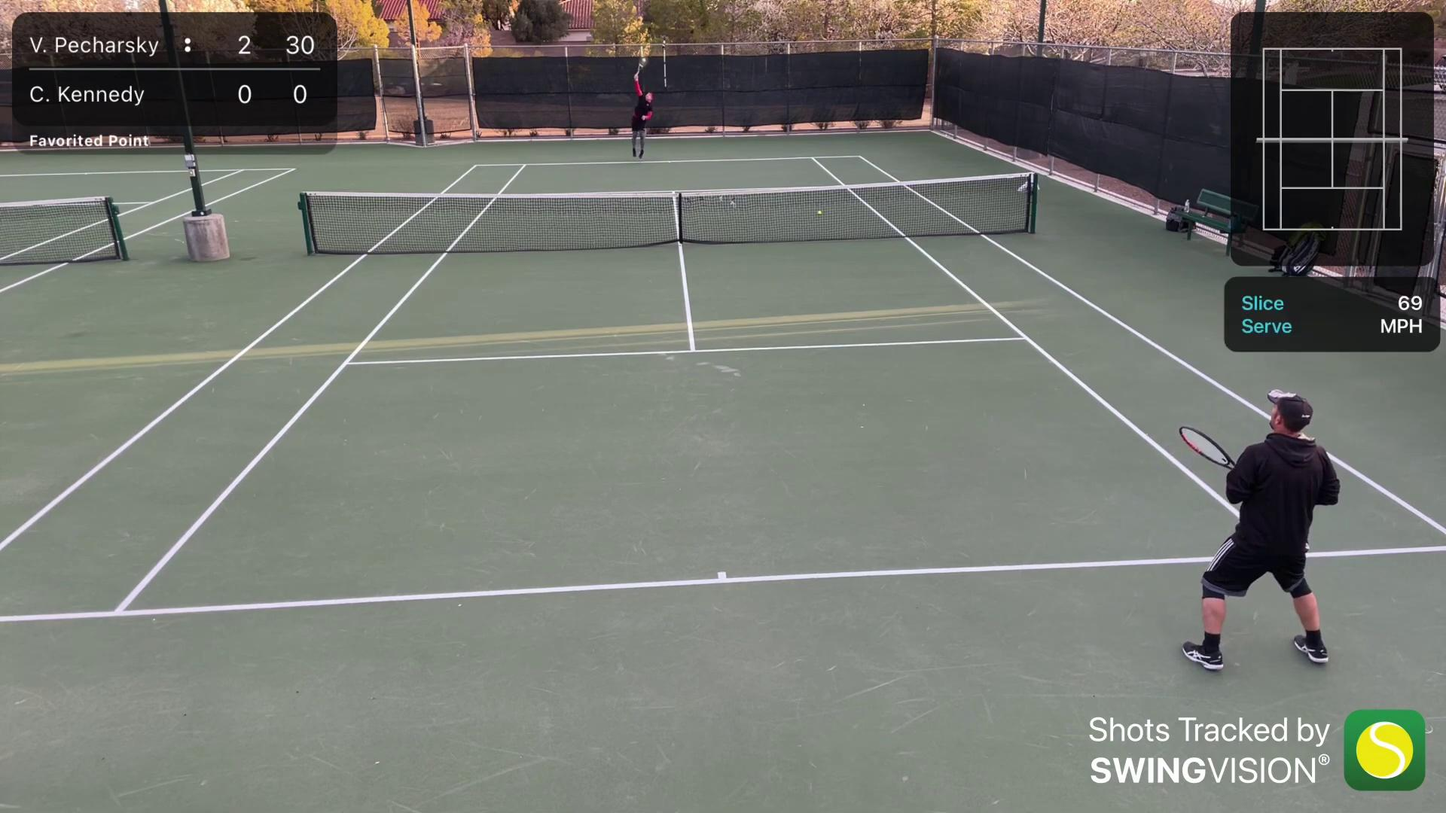ball: (641, 57, 647, 64), (817, 209, 823, 216)
